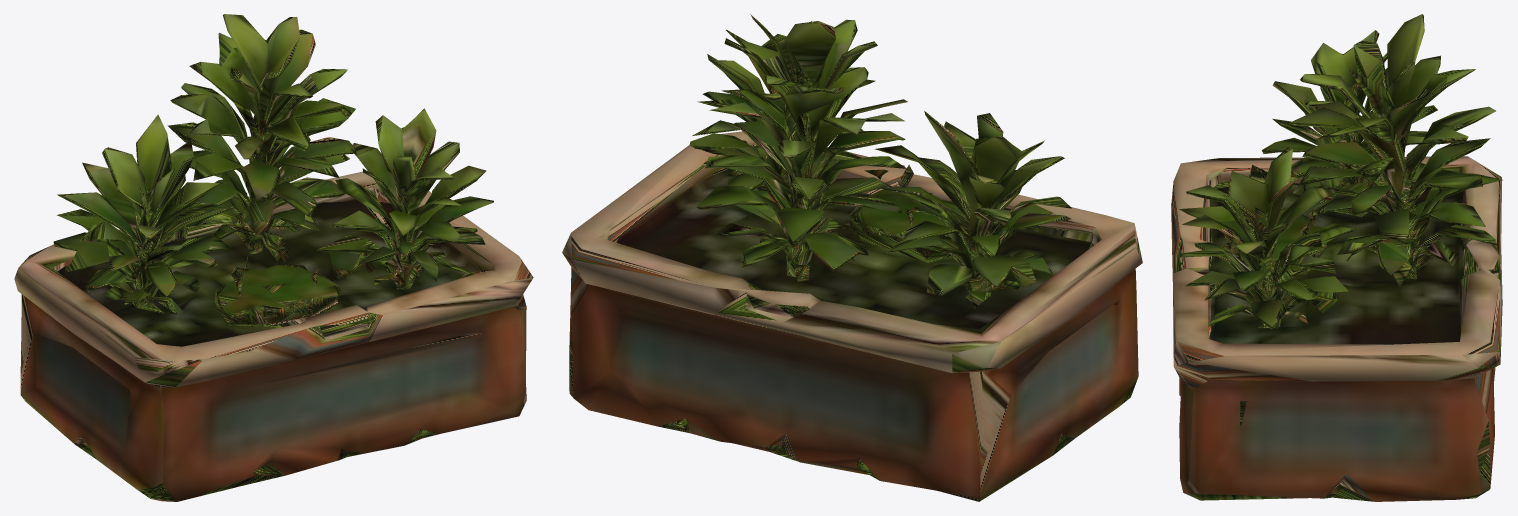
Rendered from planter.glb.
The picture shows the model from 3 angles, left to right: view 1: azimuth 30°, elevation 25°; view 2: azimuth 150°, elevation 25°; view 3: azimuth 270°, elevation 25°; orthographic projection. The views are drawn at different scales.
Visible parts, largest first — view 1: tripo_node_fbc55c1d; view 2: tripo_node_fbc55c1d; view 3: tripo_node_fbc55c1d.
Boxes of the visible parts, box(x1,y1,x2,y2) form: tripo_node_fbc55c1d: box(14, 14, 533, 501); tripo_node_fbc55c1d: box(562, 14, 1142, 501); tripo_node_fbc55c1d: box(1171, 14, 1502, 501).
Size of the model in its own units: 97.64 by 87.21 by 67.59.
Materials: 1 (1 with a texture image).
